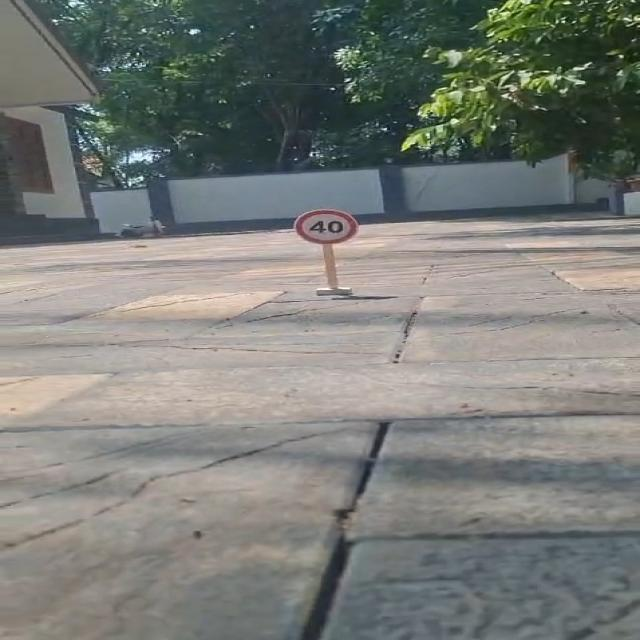Speed40: (292, 207, 361, 246)
